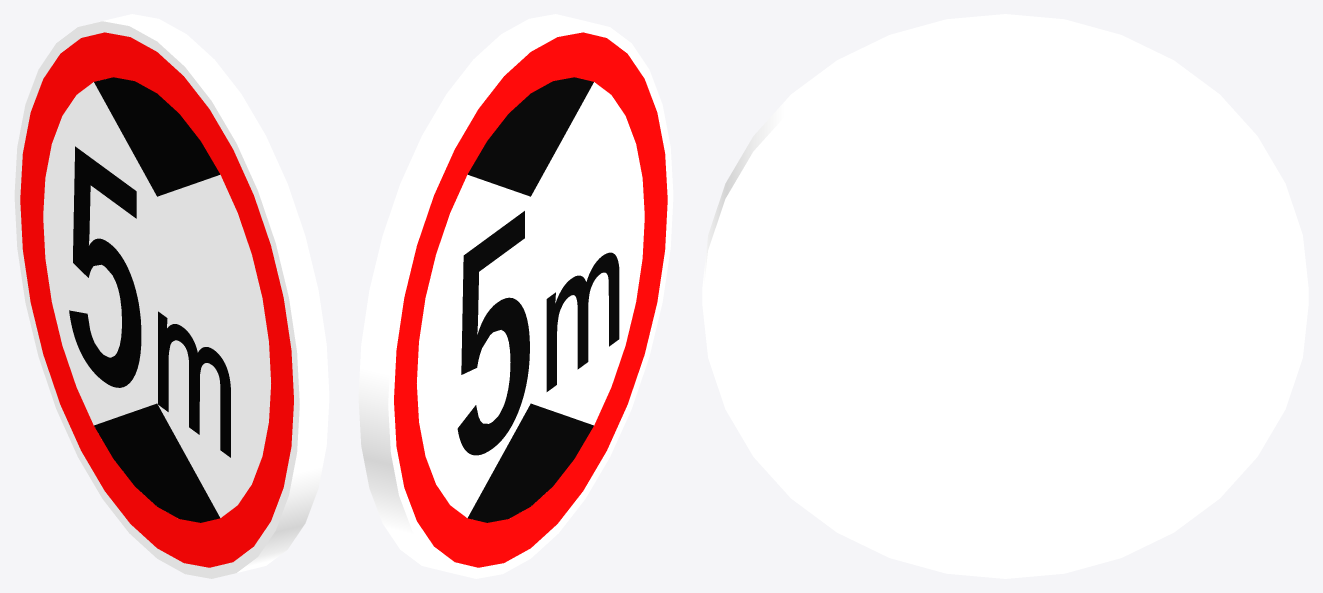
File: Height_Limit_5.glb
The picture shows the model from 3 angles, left to right: view 1: azimuth 30°, elevation 25°; view 2: azimuth 150°, elevation 25°; view 3: azimuth 270°, elevation 25°; orthographic projection. The views are drawn at different scales.
Parts seen in each view (by area): view 1: Height_Limit_5; view 2: Height_Limit_5; view 3: Height_Limit_5.
Part boxes in pixels (x1,y1,x2,y2): Height_Limit_5: (14,14,329,578); Height_Limit_5: (358,14,673,578); Height_Limit_5: (702,14,1308,578).
Bounding box in the file's own units: 0.075 × 1 × 1.
